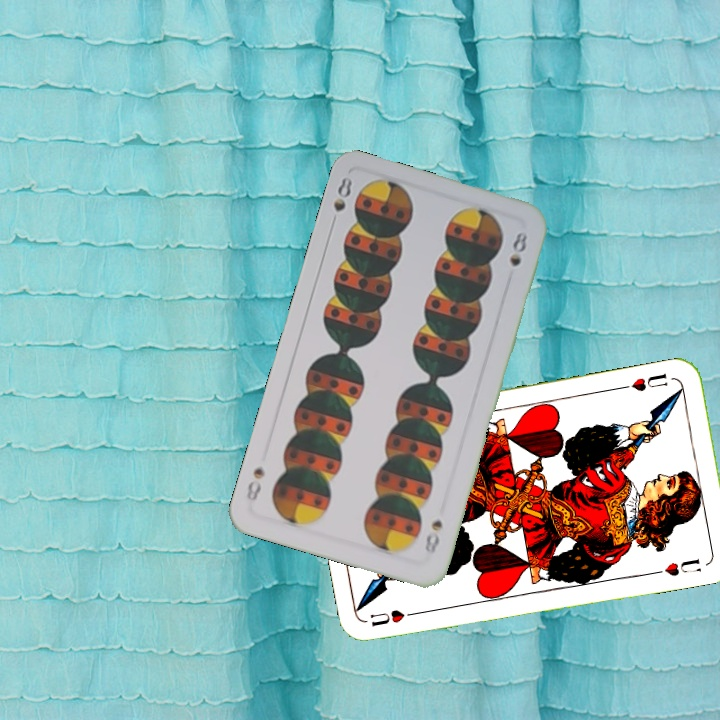HU: (366, 605, 423, 630), (617, 369, 670, 394)
S8: (326, 172, 355, 230), (420, 516, 445, 558)
